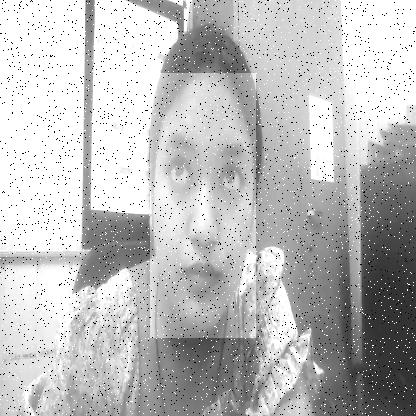Normal: (150, 73, 256, 338)
